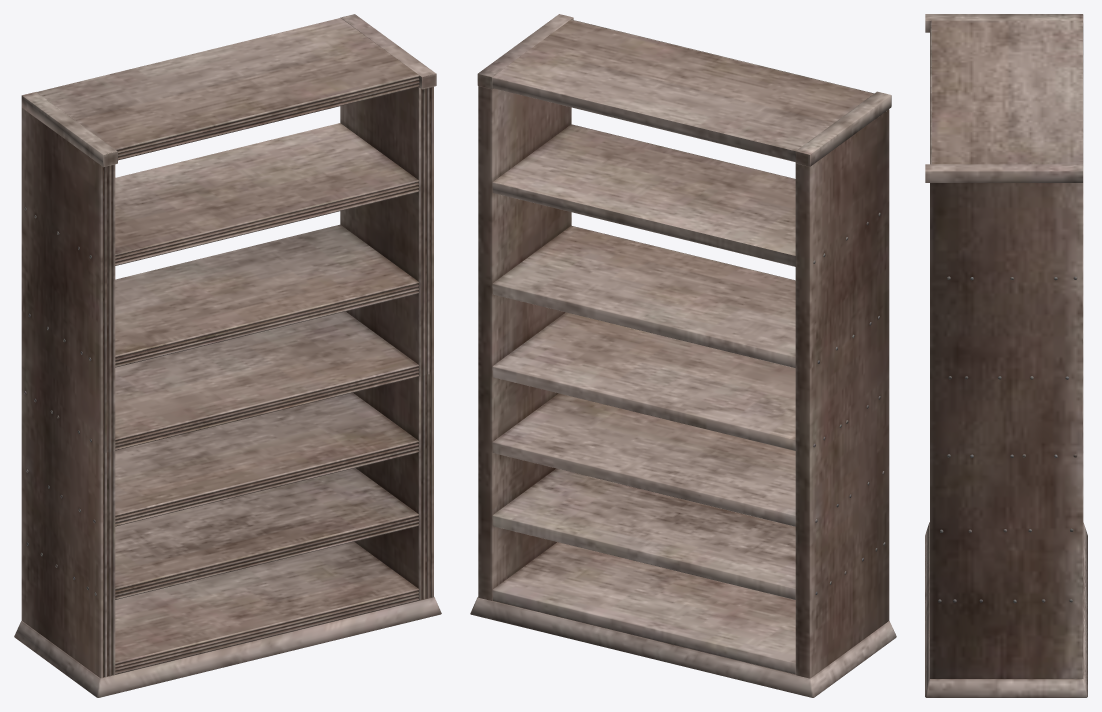
The model's file is ph_wooden_bookshelf_worn.glb.
3 views of the same model, side by side, from view 1: azimuth 30°, elevation 25°; view 2: azimuth 150°, elevation 25°; view 3: azimuth 270°, elevation 25° (orthographic). The views are drawn at different scales.
Visible parts, largest first — view 1: wooden_bookshelf_worn; view 2: wooden_bookshelf_worn; view 3: wooden_bookshelf_worn.
Part boxes in pixels (bbox=[...]): wooden_bookshelf_worn: bbox=[14, 14, 441, 697]; wooden_bookshelf_worn: bbox=[470, 14, 896, 697]; wooden_bookshelf_worn: bbox=[925, 14, 1087, 697].
Size of the model in its own units: 1.37 by 2.06 by 0.5813.
1 material, 1 textured.
